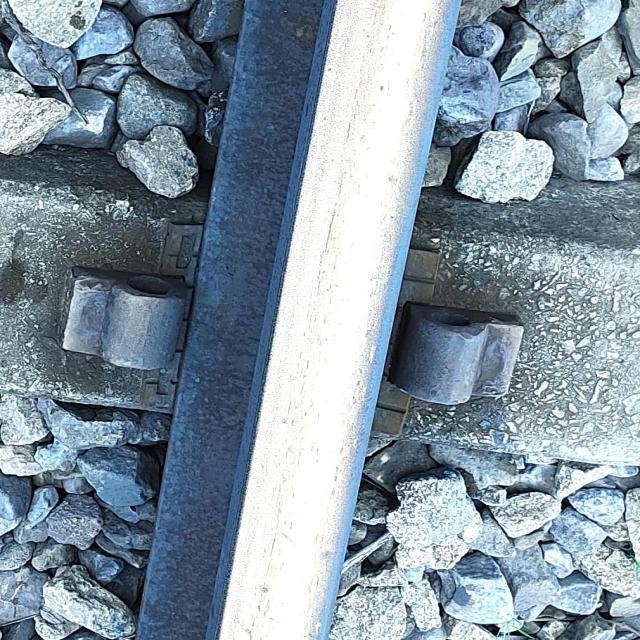Missing Fastener: (393, 250, 544, 443), (52, 241, 223, 408)
